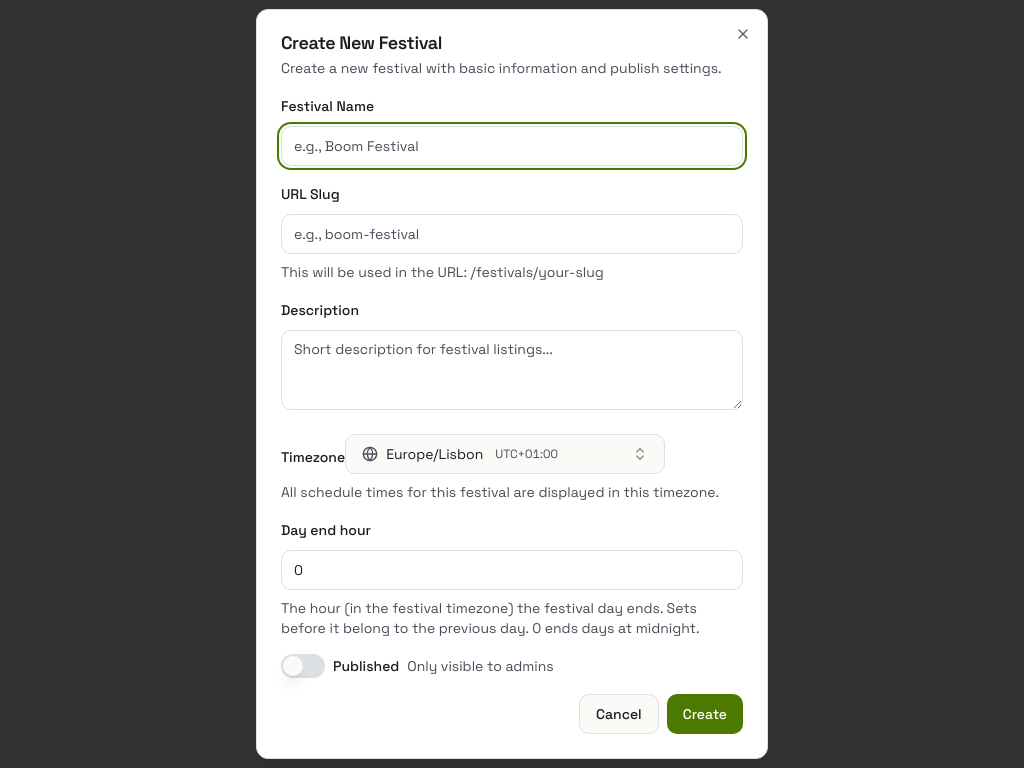
Test: FestivalDialog › blocks submit with field errors for an empty name and slug
This screenshot has width=1024, height=768.
Click the button "Create". click: click(705, 714)
box: [667,694,743,734]
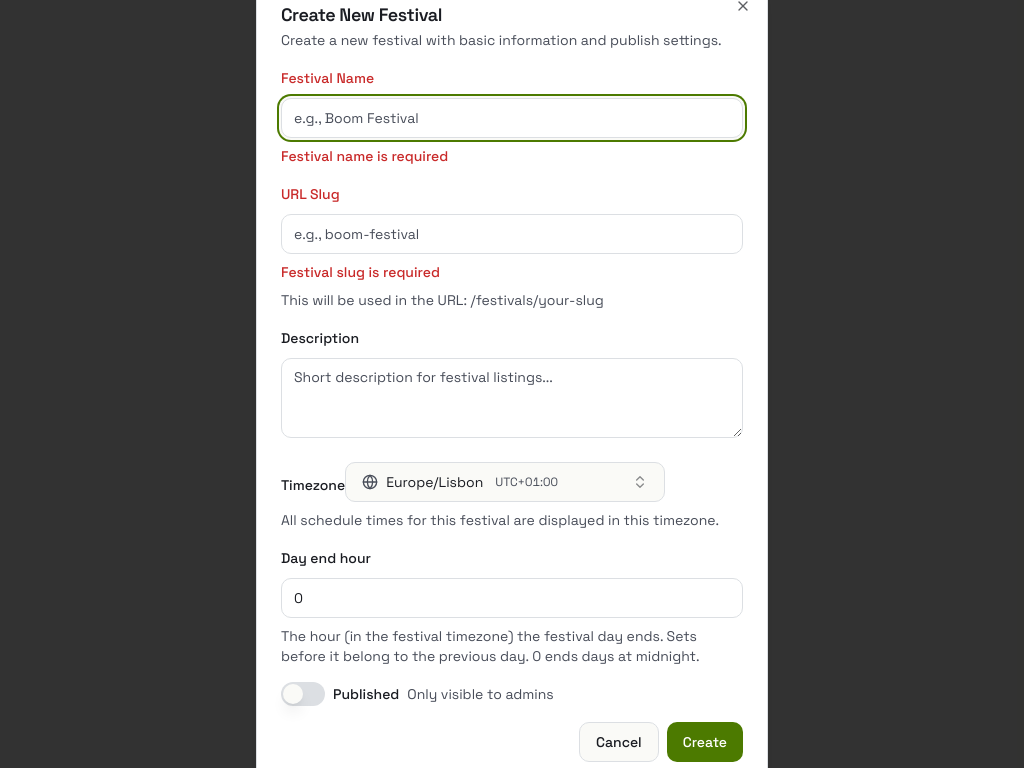
Expected: the message "Festival name is required" is shown, [281,147,448,165]
Expected: the message "Festival slug is required" is shown, [281,263,440,281]
